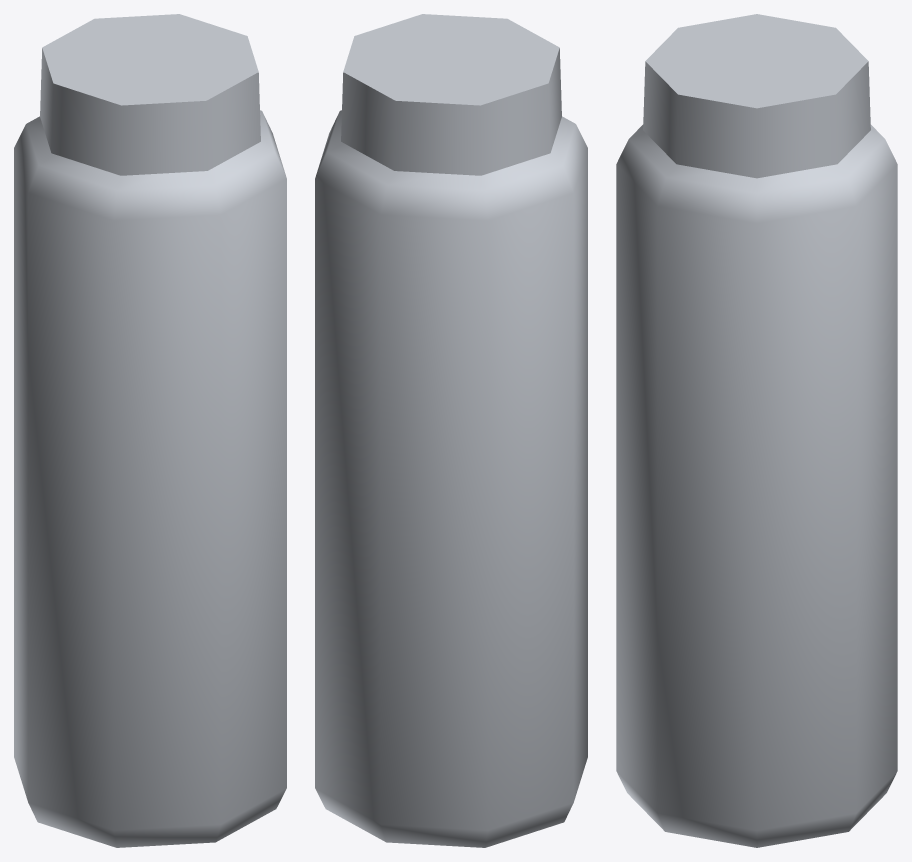
Rendered from bottle_glassware_vial_large.glb.
3 views of the same model, side by side, from view 1: azimuth 30°, elevation 25°; view 2: azimuth 150°, elevation 25°; view 3: azimuth 270°, elevation 25° (orthographic).
Parts seen in each view (by area): view 1: bottle_glassware_vial_large, bottle_glassware_vial_large_cap; view 2: bottle_glassware_vial_large, bottle_glassware_vial_large_cap; view 3: bottle_glassware_vial_large, bottle_glassware_vial_large_cap.
Part boxes in pixels (x1,y1,x2,y2): bottle_glassware_vial_large: (14,110,286,847); bottle_glassware_vial_large_cap: (40,14,260,175); bottle_glassware_vial_large: (315,110,587,847); bottle_glassware_vial_large_cap: (341,14,561,175); bottle_glassware_vial_large: (616,124,897,847); bottle_glassware_vial_large_cap: (643,14,870,178).
Size of the model in its own units: 8.5 by 24.72 by 8.5.
2 materials, 2 textured.
